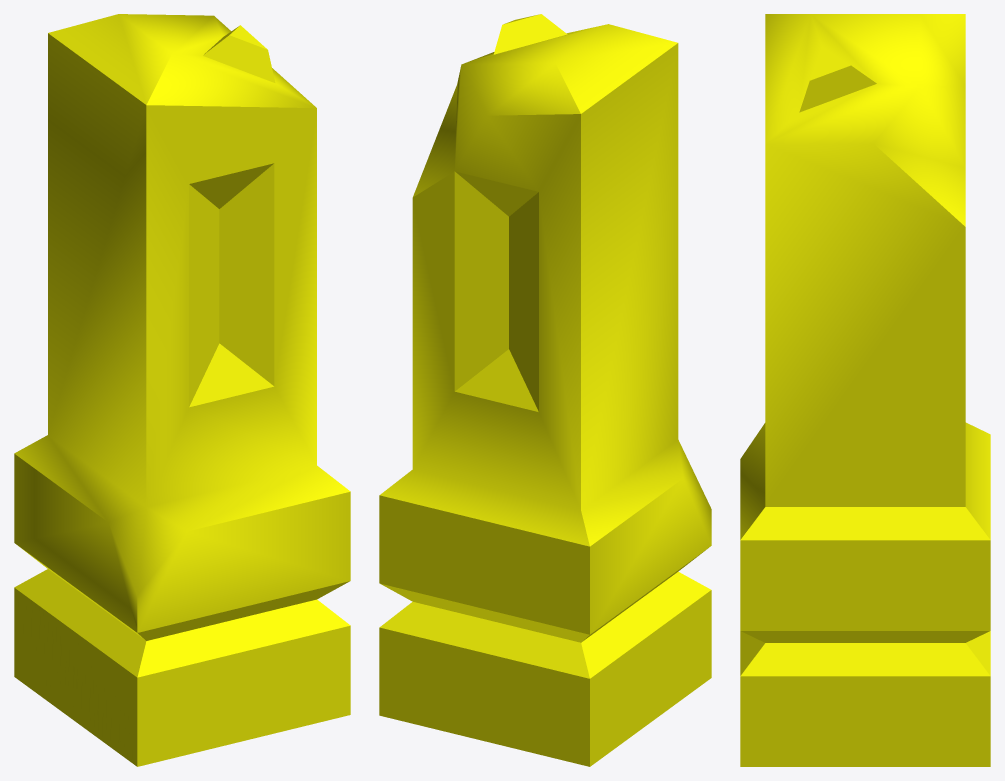
The model's file is kaykit-fence-pillar-broken.glb.
3 renders of one model, left to right at view 1: azimuth 30°, elevation 25°; view 2: azimuth 150°, elevation 25°; view 3: azimuth 270°, elevation 25°, orthographic. The views are drawn at different scales.
Visible parts, largest first — view 1: fence_pillar_broken; view 2: fence_pillar_broken; view 3: fence_pillar_broken.
Boxes of the visible parts, <box> form: fence_pillar_broken: <box>14,14,350,766</box>; fence_pillar_broken: <box>379,14,711,766</box>; fence_pillar_broken: <box>740,14,990,766</box>.
Bounding box in the file's own units: 0.5 × 1.5 × 0.5.
